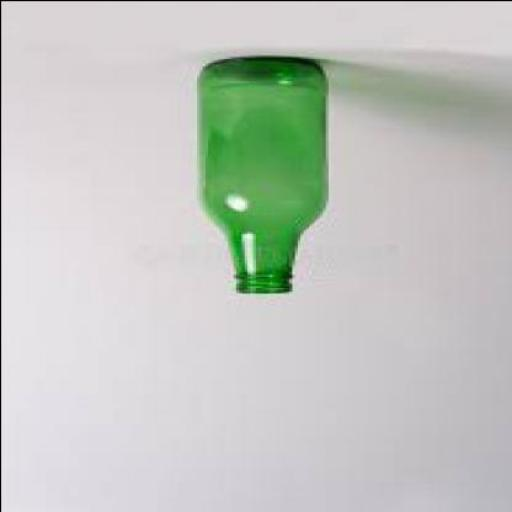glass: (196, 58, 322, 294)
